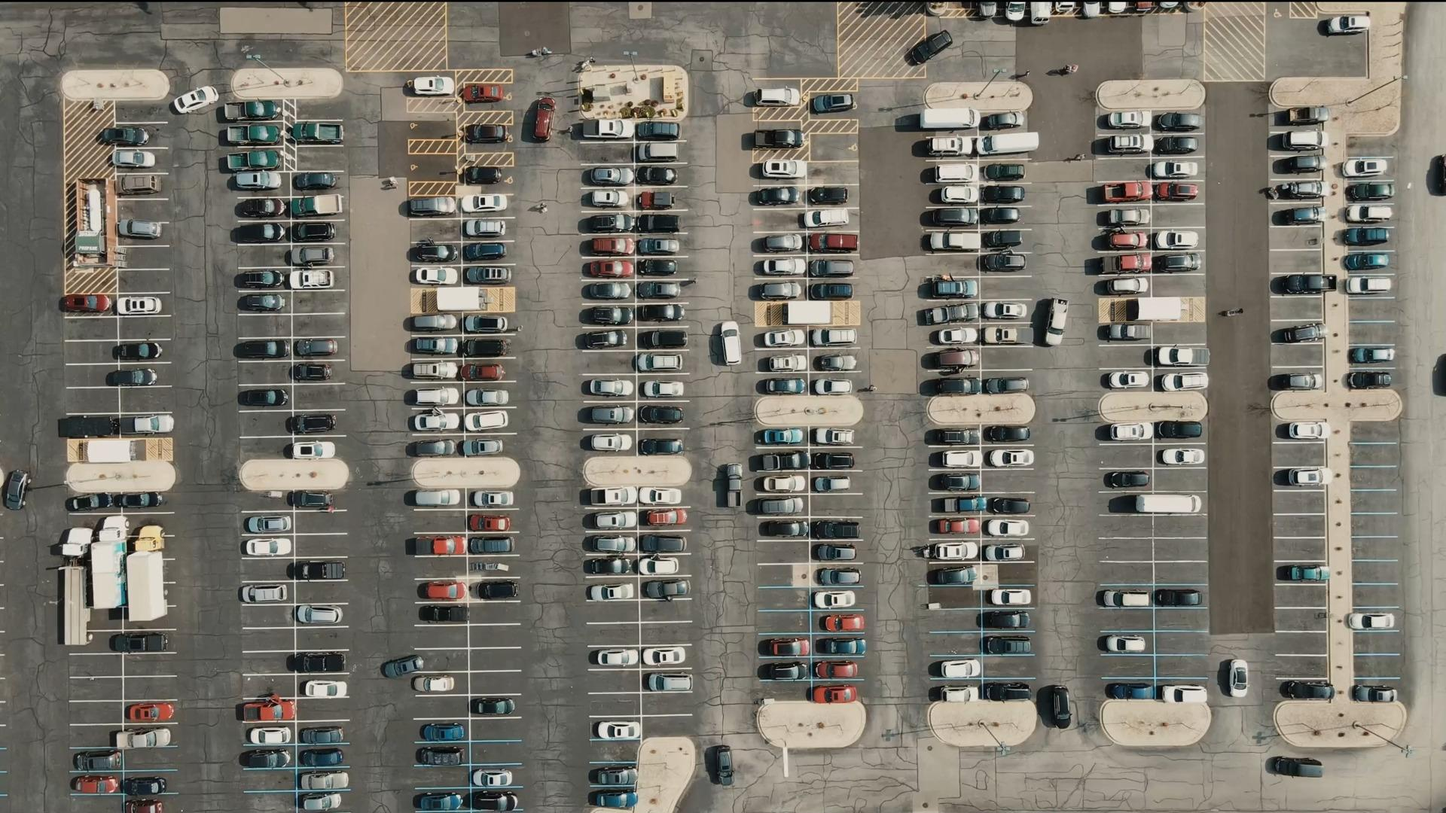free: (298, 305, 340, 336), (420, 550, 463, 577), (299, 626, 342, 653), (118, 674, 161, 701), (64, 650, 107, 677), (241, 767, 284, 794), (473, 750, 516, 777), (64, 717, 107, 744), (239, 413, 282, 440), (242, 437, 285, 464), (59, 389, 102, 416), (117, 266, 160, 293), (114, 318, 157, 345), (247, 606, 289, 633), (244, 658, 286, 685), (119, 650, 161, 677), (301, 694, 343, 721), (413, 772, 455, 799), (125, 753, 167, 780), (298, 391, 340, 418), (245, 365, 287, 392), (120, 393, 162, 420), (61, 315, 103, 342), (65, 344, 107, 371), (119, 248, 161, 275), (70, 686, 113, 712), (64, 372, 107, 398), (244, 240, 287, 266), (472, 720, 514, 746), (295, 288, 337, 314), (239, 318, 281, 344), (819, 132, 862, 157), (940, 253, 983, 278), (473, 625, 516, 650), (756, 210, 798, 235), (998, 275, 1040, 300), (298, 502, 340, 527), (302, 539, 344, 564), (471, 597, 513, 622), (479, 665, 521, 690), (756, 567, 798, 592), (765, 613, 807, 638), (990, 468, 1032, 493), (598, 697, 640, 722), (419, 692, 461, 717), (583, 626, 626, 650), (651, 704, 694, 728), (807, 162, 849, 186), (751, 539, 793, 563), (997, 358, 1039, 382), (424, 510, 466, 534), (296, 591, 338, 615), (244, 559, 286, 583), (418, 623, 460, 647), (754, 587, 796, 611), (940, 631, 982, 655), (590, 604, 632, 628), (995, 657, 1037, 681), (651, 622, 693, 646), (585, 677, 627, 701), (1358, 585, 1400, 608), (1165, 614, 1208, 629), (1283, 546, 1326, 560), (1286, 589, 1329, 603), (1285, 662, 1328, 676), (1352, 424, 1394, 438), (1281, 449, 1323, 463), (1279, 638, 1321, 652), (1358, 483, 1400, 497), (1158, 474, 1200, 488), (1110, 566, 1152, 580), (1160, 546, 1202, 560), (1103, 160, 1145, 174), (1104, 452, 1146, 466), (1276, 616, 1319, 629), (1352, 501, 1395, 514), (1284, 256, 1327, 269), (1353, 299, 1396, 312), (1284, 306, 1327, 319), (1354, 449, 1396, 462), (1281, 518, 1323, 531), (1273, 495, 1315, 508), (1366, 667, 1408, 680), (1360, 641, 1402, 654), (1357, 522, 1399, 535), (1360, 569, 1402, 582), (1360, 539, 1402, 552), (1104, 523, 1146, 536), (1166, 519, 1208, 532), (1106, 549, 1148, 562), (1168, 564, 1210, 577), (1165, 643, 1207, 656), (1103, 618, 1145, 631), (1166, 663, 1208, 676), (1110, 666, 1152, 679), (1279, 231, 1321, 244), (1159, 273, 1201, 286), (1355, 320, 1397, 333), (1163, 332, 1205, 345), (1106, 353, 1148, 366), (1100, 517, 1142, 530), (934, 620, 976, 633), (1160, 214, 1202, 224)
occupied: (1036, 272, 1085, 315), (1389, 736, 1433, 778), (642, 403, 691, 434), (167, 87, 212, 120), (589, 515, 644, 541), (634, 569, 689, 595), (585, 531, 640, 557), (584, 553, 639, 579), (640, 501, 695, 527), (809, 542, 864, 568), (820, 585, 875, 611), (980, 132, 1039, 156), (989, 181, 1048, 205), (928, 204, 987, 228), (984, 228, 1043, 252), (977, 301, 1036, 325), (924, 301, 983, 325), (931, 327, 990, 351), (986, 326, 1045, 350), (528, 117, 560, 161), (644, 535, 698, 561), (981, 160, 1039, 184), (932, 161, 990, 185), (926, 182, 984, 206), (989, 252, 1047, 276), (985, 378, 1043, 402), (927, 545, 985, 569), (11, 439, 53, 472), (646, 479, 701, 504), (591, 580, 646, 605), (814, 514, 869, 539), (810, 567, 865, 592), (245, 696, 297, 722), (586, 485, 640, 510), (648, 553, 702, 578), (984, 203, 1042, 226), (920, 382, 978, 405), (60, 416, 117, 439), (1137, 495, 1202, 515), (764, 254, 812, 280), (227, 101, 283, 123), (920, 108, 975, 130), (292, 122, 345, 144), (117, 728, 172, 749), (112, 633, 169, 653), (229, 125, 283, 146), (702, 715, 729, 757), (293, 196, 343, 218), (292, 653, 346, 673), (1282, 681, 1336, 701), (757, 287, 800, 312), (720, 329, 743, 375), (584, 120, 634, 141), (1103, 182, 1153, 203), (928, 283, 986, 301), (1282, 274, 1334, 294), (60, 528, 97, 556), (1281, 130, 1326, 153), (1343, 158, 1392, 179), (227, 153, 281, 172), (62, 295, 113, 315), (242, 749, 293, 769), (1323, 15, 1371, 36), (418, 746, 466, 767), (128, 702, 176, 723), (1226, 633, 1251, 673), (984, 683, 1034, 703), (294, 562, 346, 581), (76, 750, 123, 771), (239, 224, 288, 244), (416, 792, 465, 812), (97, 516, 132, 544), (1274, 182, 1325, 201), (926, 233, 977, 252), (474, 791, 520, 812), (461, 194, 509, 214), (592, 767, 640, 787), (133, 525, 167, 553), (409, 197, 459, 216), (1101, 590, 1151, 609), (1159, 347, 1209, 366), (466, 411, 509, 433), (1105, 134, 1150, 155), (124, 775, 169, 796), (937, 659, 982, 680), (1104, 111, 1151, 131), (241, 199, 288, 219), (1349, 182, 1396, 202), (301, 748, 348, 768), (110, 369, 162, 387), (757, 130, 806, 149), (116, 343, 165, 362), (1345, 227, 1394, 246), (1281, 325, 1330, 344), (1161, 373, 1210, 392), (812, 357, 861, 376), (812, 333, 861, 352), (1348, 371, 1394, 391), (765, 638, 811, 658), (812, 685, 858, 705), (238, 342, 289, 360), (412, 244, 460, 263), (236, 171, 284, 190), (1277, 156, 1325, 175), (1285, 468, 1333, 487), (1345, 253, 1393, 272), (302, 771, 350, 790), (760, 663, 808, 682), (749, 239, 797, 258), (764, 372, 812, 391), (413, 76, 456, 97), (812, 94, 855, 115), (120, 219, 165, 239), (756, 87, 801, 107), (925, 137, 970, 157), (595, 721, 640, 741), (422, 723, 467, 743), (105, 128, 152, 147), (1350, 346, 1397, 365), (1347, 205, 1394, 224), (291, 414, 338, 433), (242, 584, 289, 603), (1153, 161, 1200, 180), (1346, 277, 1393, 296), (1155, 254, 1202, 273), (73, 775, 120, 794), (592, 791, 639, 810), (294, 173, 343, 191), (121, 174, 163, 195), (239, 271, 288, 289), (1280, 565, 1329, 583), (241, 389, 290, 407), (810, 253, 859, 271), (294, 223, 338, 243), (1287, 107, 1333, 126), (130, 415, 176, 434), (1286, 422, 1332, 441), (290, 441, 336, 460), (1103, 635, 1149, 654), (648, 673, 694, 692), (413, 413, 459, 432), (802, 210, 850, 228), (420, 605, 468, 623), (644, 647, 687, 667), (423, 581, 466, 601), (464, 219, 509, 238), (462, 85, 507, 104), (1156, 183, 1201, 202), (815, 661, 860, 680), (1107, 684, 1157, 701), (1158, 113, 1205, 131), (1349, 613, 1396, 631), (1157, 590, 1204, 608), (1162, 686, 1209, 704), (297, 606, 344, 624), (241, 295, 288, 313), (245, 538, 292, 556), (1104, 371, 1151, 389), (478, 581, 520, 601), (638, 122, 682, 141), (983, 112, 1027, 131), (296, 339, 340, 358), (1157, 231, 1201, 250), (822, 614, 866, 633), (1274, 374, 1323, 391), (415, 490, 464, 507), (246, 516, 292, 534), (1353, 686, 1399, 704), (1161, 448, 1207, 466), (638, 144, 681, 163), (294, 247, 337, 266), (474, 697, 517, 716), (292, 271, 335, 290), (1104, 209, 1152, 226), (412, 315, 460, 332), (416, 339, 464, 356), (412, 365, 460, 382), (458, 317, 506, 334), (464, 339, 512, 356), (642, 323, 690, 340), (639, 346, 687, 363), (580, 163, 628, 180), (460, 440, 508, 457), (405, 437, 453, 454), (467, 126, 512, 144), (1156, 137, 1201, 155), (413, 653, 458, 671), (249, 727, 294, 745), (1108, 424, 1153, 442), (596, 649, 641, 667), (1103, 325, 1150, 342), (420, 389, 467, 406), (818, 278, 865, 295), (1108, 231, 1150, 250), (302, 728, 346, 746), (304, 680, 348, 698), (988, 589, 1032, 607), (415, 268, 459, 286), (467, 389, 511, 407), (937, 686, 981, 704), (290, 491, 336, 508), (587, 380, 633, 397), (953, 1, 973, 40), (301, 793, 342, 812), (426, 537, 467, 556), (1113, 254, 1154, 273), (120, 298, 163, 316), (1108, 278, 1151, 296), (637, 242, 680, 260), (727, 461, 743, 509), (465, 368, 513, 384), (579, 325, 627, 341), (1278, 209, 1323, 226), (467, 267, 512, 284), (1107, 472, 1152, 489), (467, 490, 509, 508), (590, 190, 632, 208), (644, 165, 686, 183), (119, 493, 166, 509), (465, 244, 509, 261), (1160, 422, 1204, 439), (763, 160, 804, 178), (474, 770, 515, 788), (470, 515, 511, 533), (755, 188, 796, 206), (580, 435, 621, 453), (465, 168, 508, 185), (642, 381, 685, 398), (413, 676, 456, 693), (636, 217, 679, 234), (585, 214, 628, 231), (591, 238, 634, 255), (587, 307, 630, 324), (643, 304, 686, 321), (641, 264, 684, 281), (643, 282, 686, 299), (762, 327, 805, 344), (820, 382, 863, 399), (752, 433, 795, 450), (819, 453, 862, 470), (768, 517, 811, 534), (755, 478, 798, 495), (762, 459, 805, 476), (949, 448, 992, 465), (943, 476, 986, 493), (994, 546, 1037, 563), (926, 564, 969, 581), (936, 499, 979, 516), (932, 513, 975, 530), (987, 631, 1030, 648), (933, 349, 976, 366), (987, 431, 1030, 448), (993, 499, 1036, 516), (117, 151, 159, 168), (293, 364, 335, 381), (639, 194, 681, 211), (587, 285, 629, 302), (592, 259, 634, 276), (761, 356, 803, 373), (817, 429, 859, 446), (934, 433, 976, 450), (817, 482, 859, 499), (991, 584, 1033, 601), (990, 616, 1032, 633), (987, 522, 1029, 539), (578, 408, 620, 425), (1030, 1, 1053, 26), (992, 450, 1035, 463), (126, 799, 165, 813), (1006, 1, 1027, 22), (1053, 0, 1076, 17), (1083, 1, 1103, 19), (979, 1, 998, 19), (1108, 1, 1129, 16), (1159, 1, 1181, 13), (1136, 1, 1156, 14)
